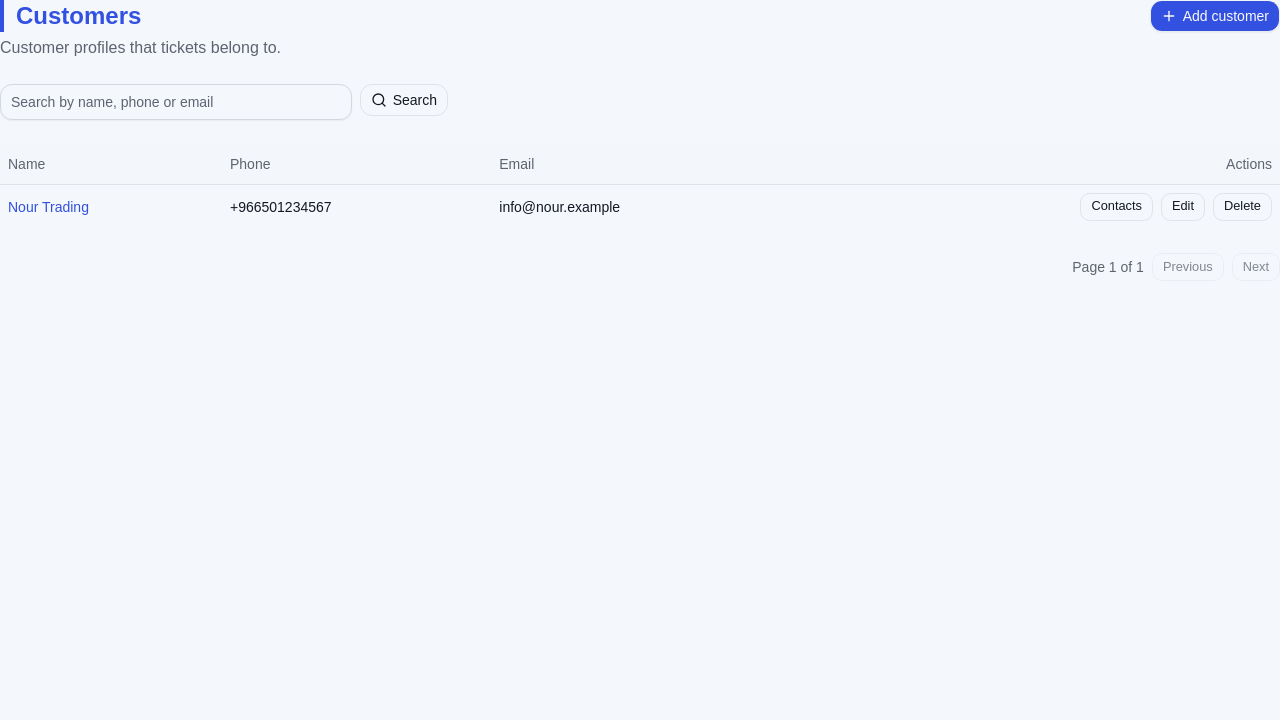
Customer contacts › shows the server message next to the value when the API answers 400
The image size is (1280, 720).
Click the button "Contacts": coordinates (1117, 206) top-left (1080, 192), bottom-right (1153, 220)
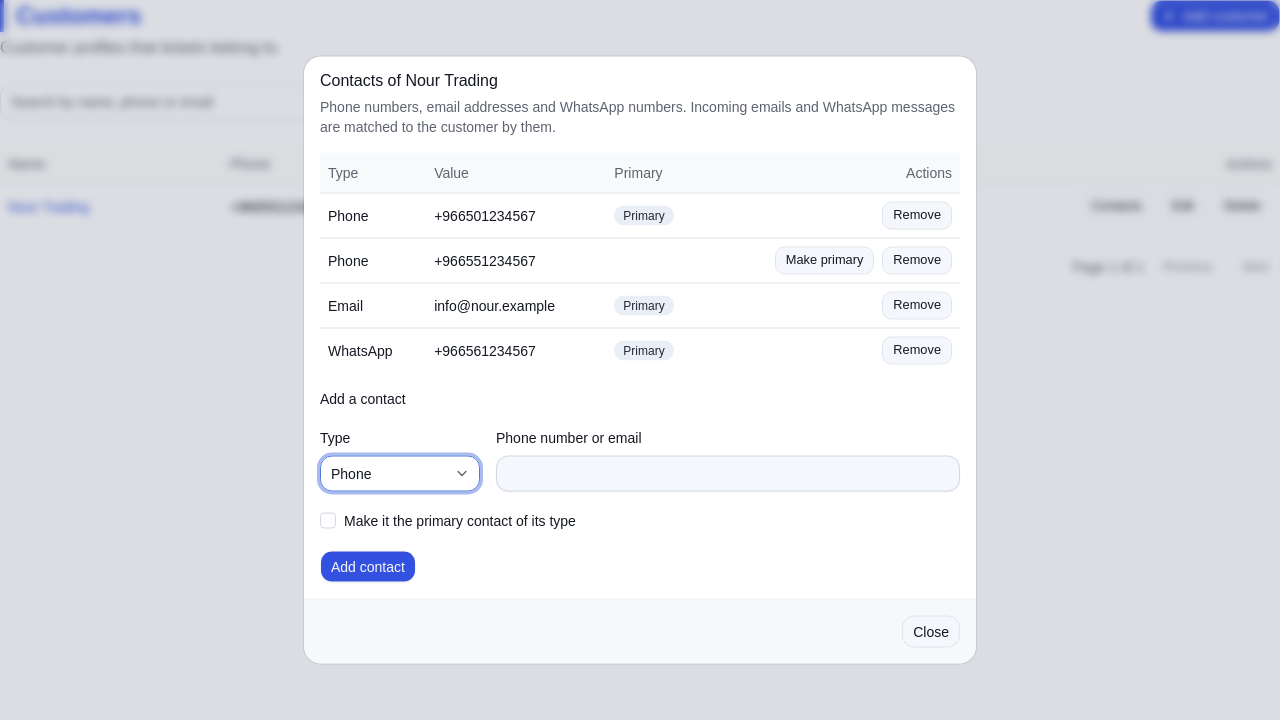
Now the text "+966551234567" is shown, box top-left (426, 238), bottom-right (606, 282)
In the field labelled "Phone number or email": coordinates (728, 473) top-left (496, 455), bottom-right (960, 491), type "0521234567"
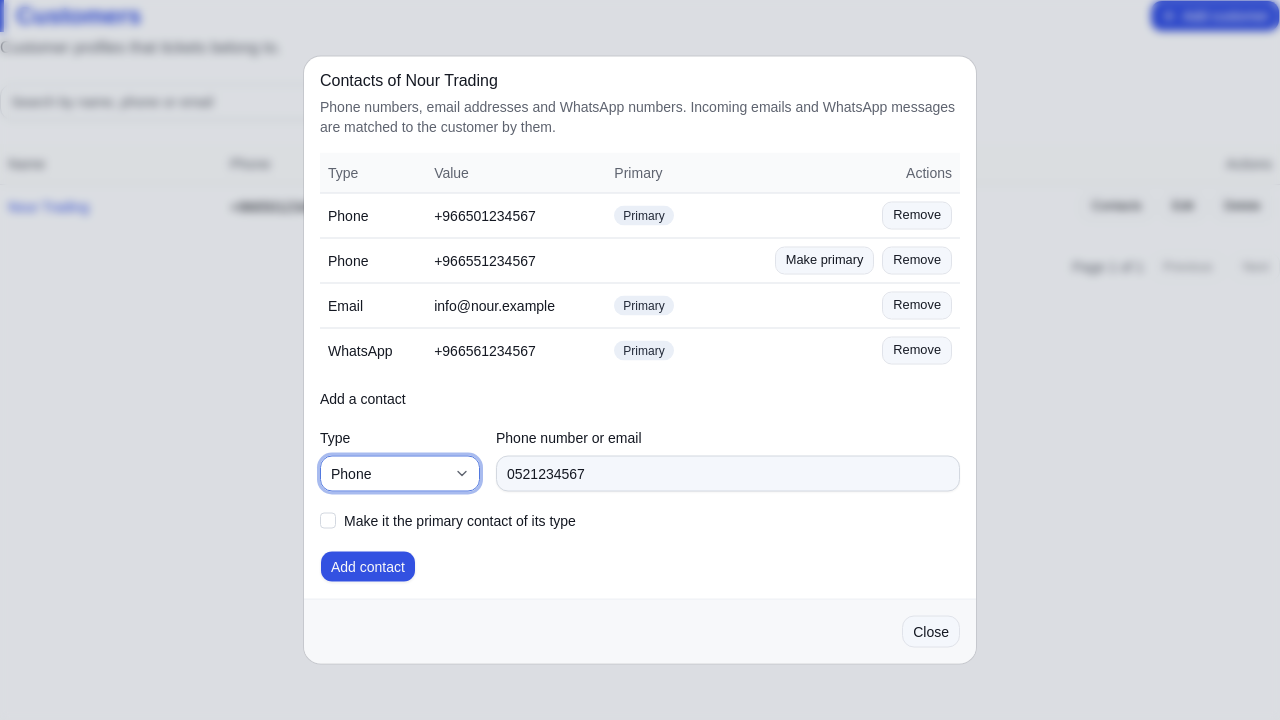
Click the button "Add contact": coordinates (368, 566) top-left (320, 550), bottom-right (416, 582)
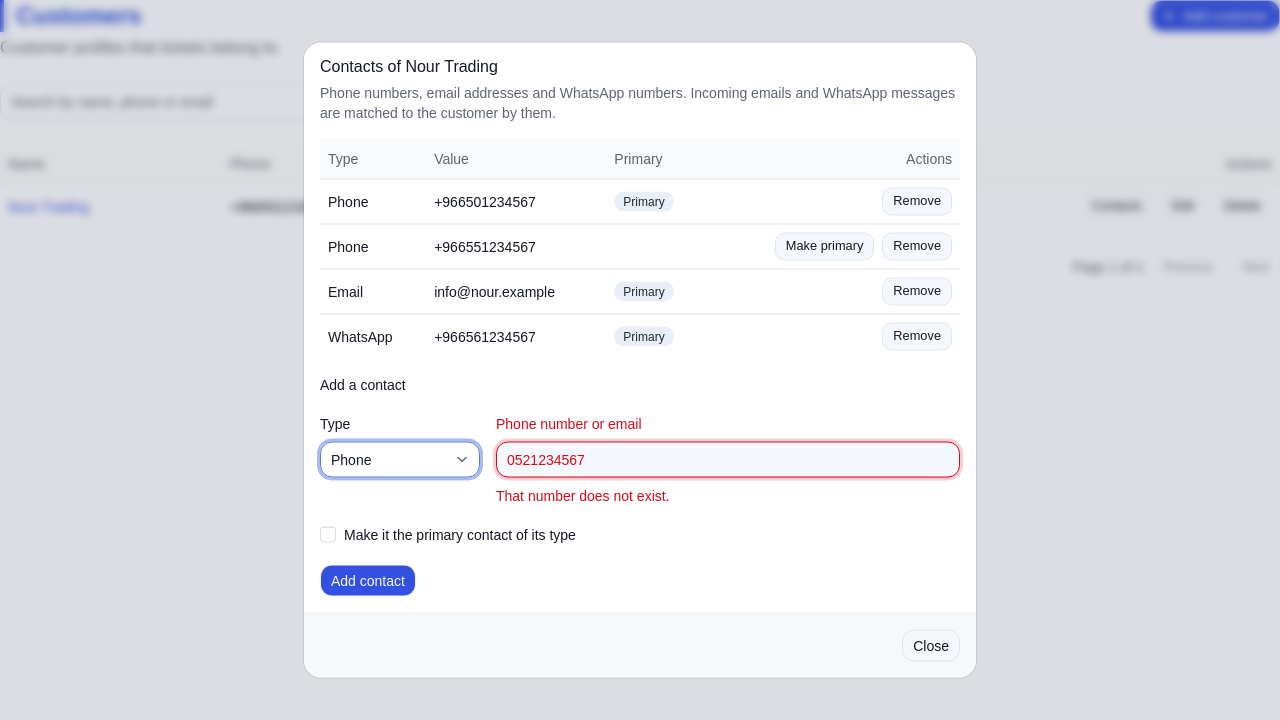
Now the text "That number does not exist." is shown, box top-left (496, 487), bottom-right (670, 503)
